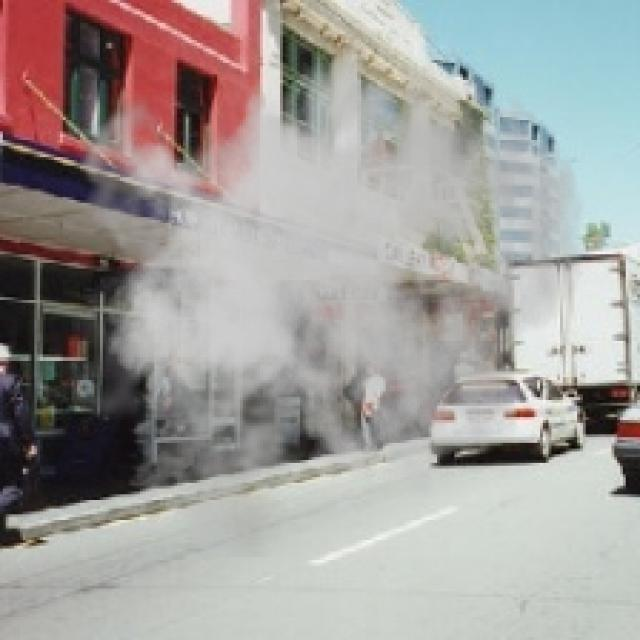smoke: (71, 6, 586, 557)
